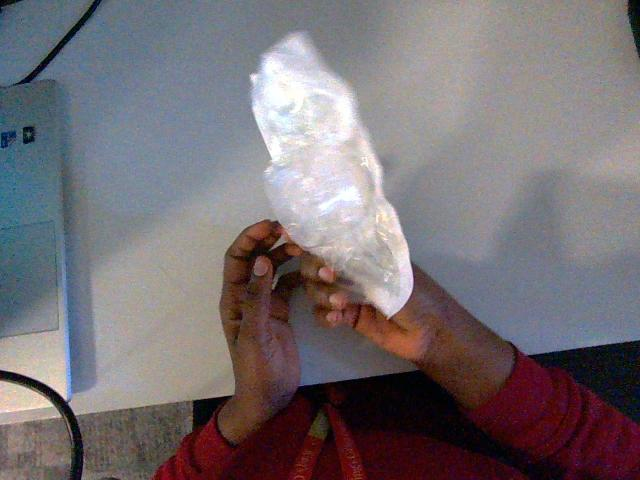gallipot: (251, 33, 412, 315)
